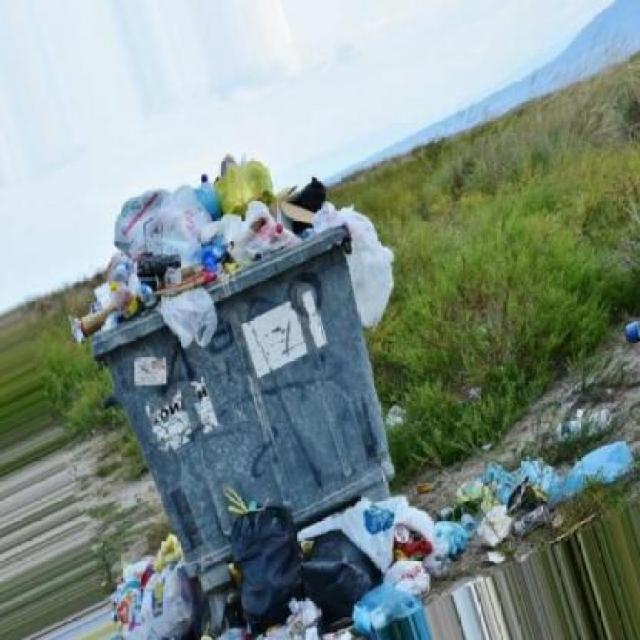garbage: (96, 480, 640, 639), (61, 160, 394, 363), (469, 454, 640, 475), (376, 398, 415, 434), (604, 314, 640, 337)
